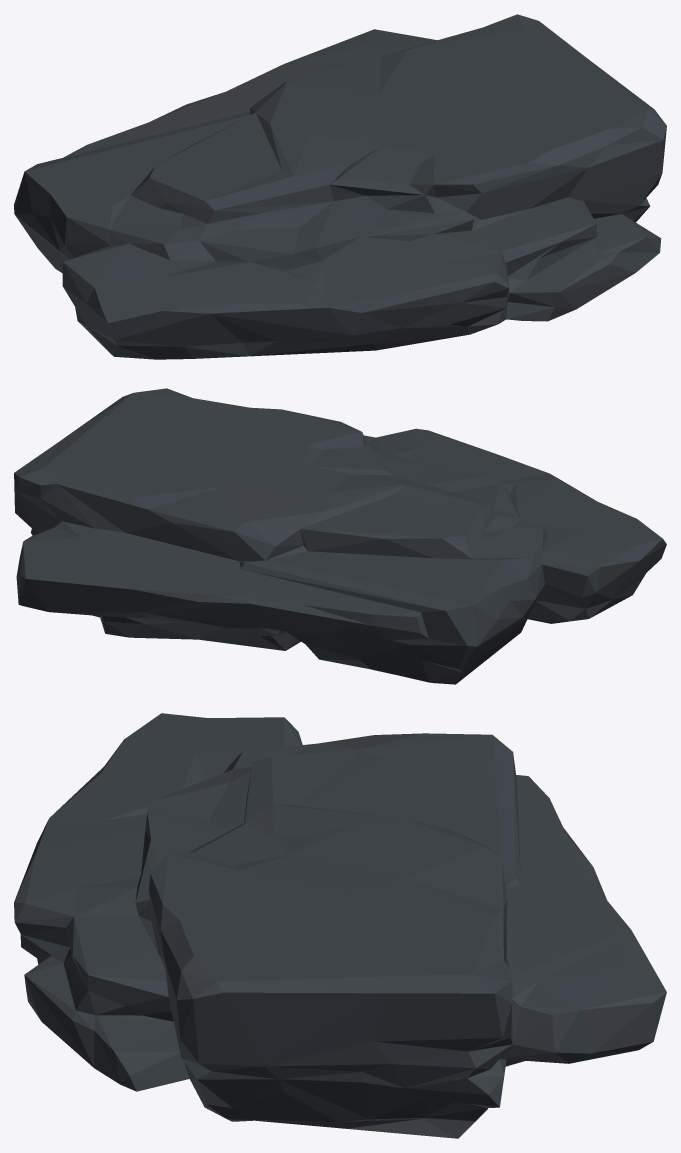
File: MDungeon_CavernRock_Flat_02.FBX
3 views of the same model, one above another, from view 1: azimuth 30°, elevation 25°; view 2: azimuth 150°, elevation 25°; view 3: azimuth 270°, elevation 25° (orthographic). The views are drawn at different scales.
Visible parts, largest first — view 1: MDungeon_CavernRock_Flat_02_LOD0; view 2: MDungeon_CavernRock_Flat_02_LOD0; view 3: MDungeon_CavernRock_Flat_02_LOD0.
Boxes of the visible parts, x1,y1,x2,y2 form: MDungeon_CavernRock_Flat_02_LOD0: [14, 14, 666, 359]; MDungeon_CavernRock_Flat_02_LOD0: [14, 388, 666, 684]; MDungeon_CavernRock_Flat_02_LOD0: [14, 713, 666, 1138].
Size of what is drawn, in the model's own units: 9.49 by 2.4 by 8.08.
